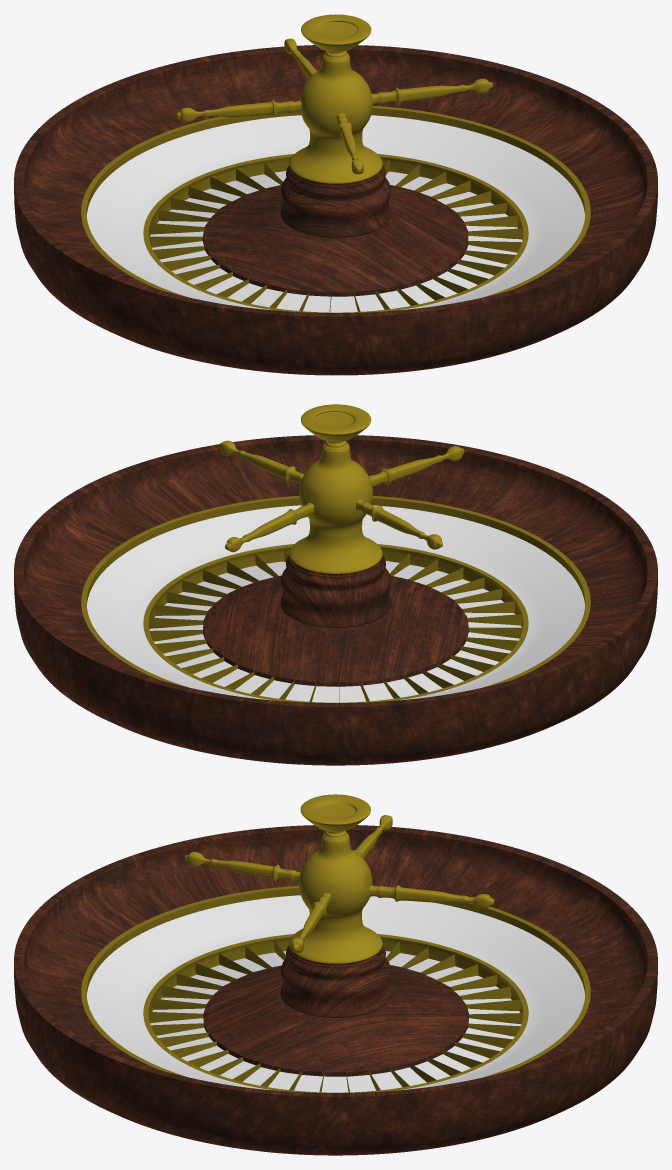
Rendered from Roulette-Sketchfab.fbx.
3 views of the same model, one above another, from view 1: azimuth 30°, elevation 25°; view 2: azimuth 150°, elevation 25°; view 3: azimuth 270°, elevation 25° (orthographic).
Parts seen in each view (by area): view 1: Circle; view 2: Circle; view 3: Circle.
Boxes of the visible parts, box(x1,y1,x2,y2) form: Circle: box(14, 14, 657, 375); Circle: box(14, 404, 657, 765); Circle: box(14, 794, 657, 1155).
Size of the model in its own units: 419 by 162 by 419.
